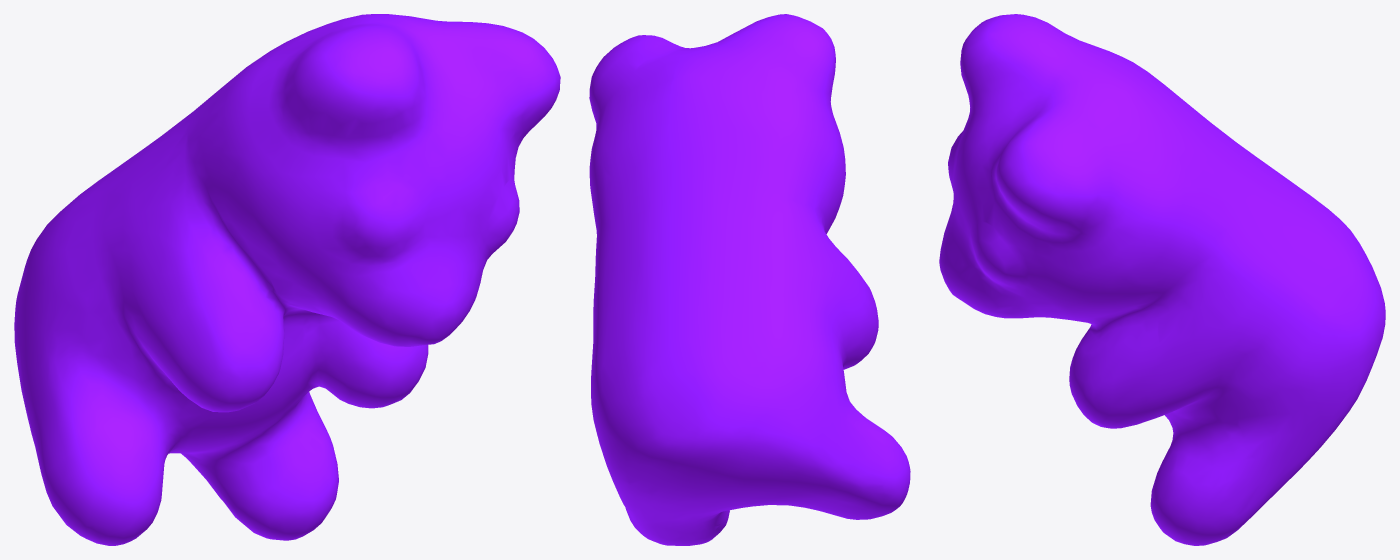
3 views of the same model, side by side, from view 1: azimuth 30°, elevation 25°; view 2: azimuth 150°, elevation 25°; view 3: azimuth 270°, elevation 25° (orthographic). The views are drawn at different scales.
Parts seen in each view (by area): view 1: bear.002; view 2: bear.002; view 3: bear.002.
Boxes of the visible parts, x1,y1,x2,y2 form: bear.002: [14, 14, 560, 545]; bear.002: [589, 14, 910, 545]; bear.002: [939, 14, 1385, 545].
Size of the model in its own units: 0.8651 by 1.09 by 0.8669.
